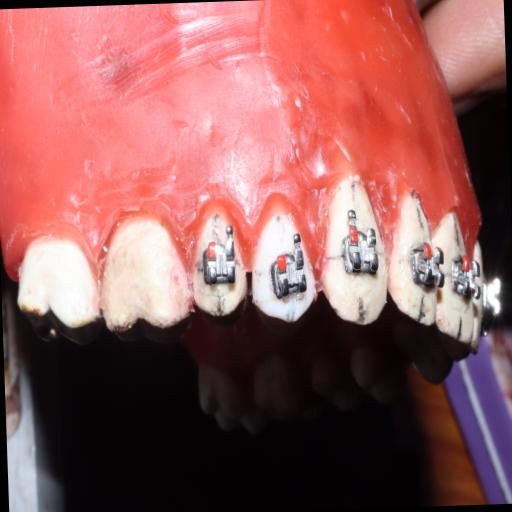correct_brace: (246, 198, 318, 323)
